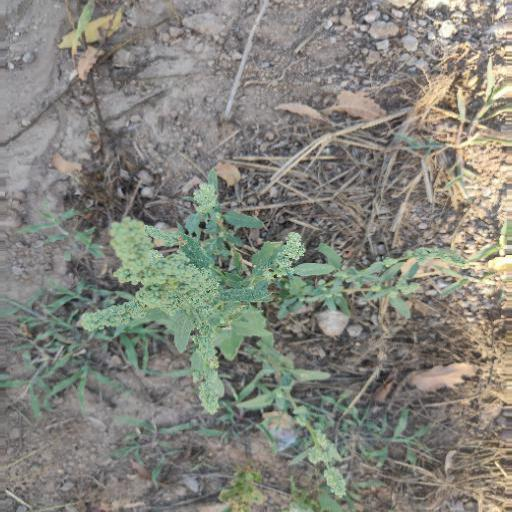weed: (77, 198, 390, 498)
